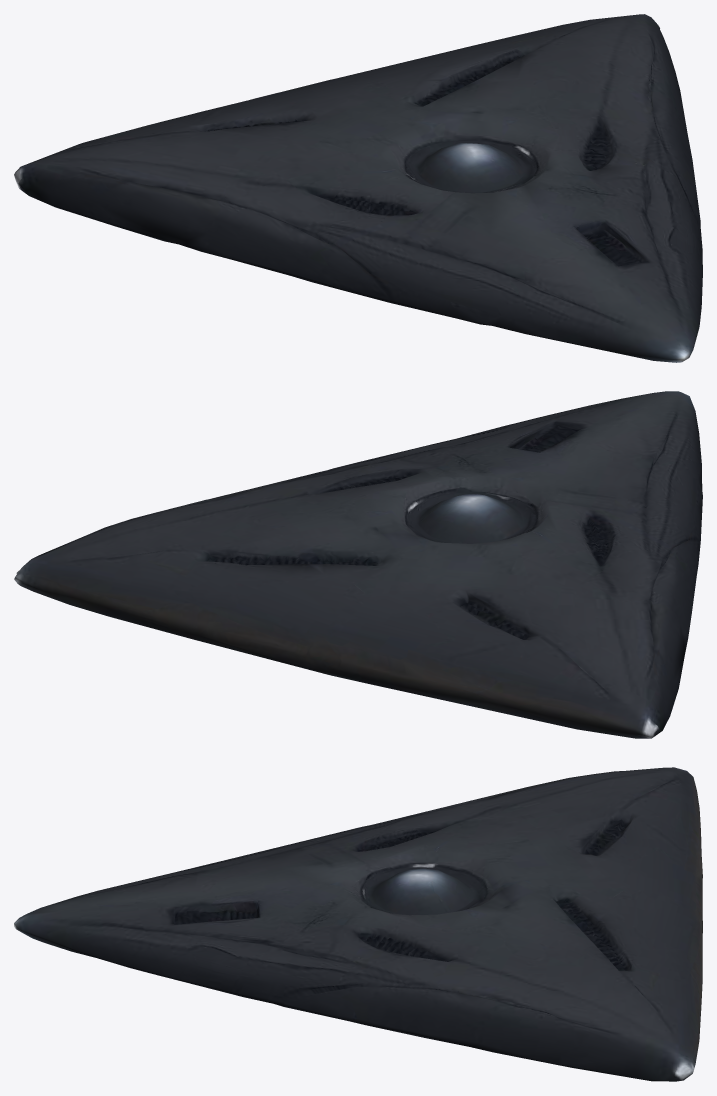
The model's file is shadow.glb.
The picture shows the model from 3 angles, top to bottom: view 1: azimuth 30°, elevation 25°; view 2: azimuth 150°, elevation 25°; view 3: azimuth 270°, elevation 25°; orthographic projection. The views are drawn at different scales.
Visible parts, largest first — view 1: tripo_node_7420f9f5-e4c6-4a26-8f88-d34290d119d4; view 2: tripo_node_7420f9f5-e4c6-4a26-8f88-d34290d119d4; view 3: tripo_node_7420f9f5-e4c6-4a26-8f88-d34290d119d4.
Part boxes in pixels (left/top/right/bottom): tripo_node_7420f9f5-e4c6-4a26-8f88-d34290d119d4: left=14, top=14, right=702, bottom=362; tripo_node_7420f9f5-e4c6-4a26-8f88-d34290d119d4: left=14, top=391, right=702, bottom=738; tripo_node_7420f9f5-e4c6-4a26-8f88-d34290d119d4: left=14, top=767, right=702, bottom=1081.
Bounding box in the file's own units: 1 × 0.1327 × 0.975.
Materials: 1 (1 with a texture image).
